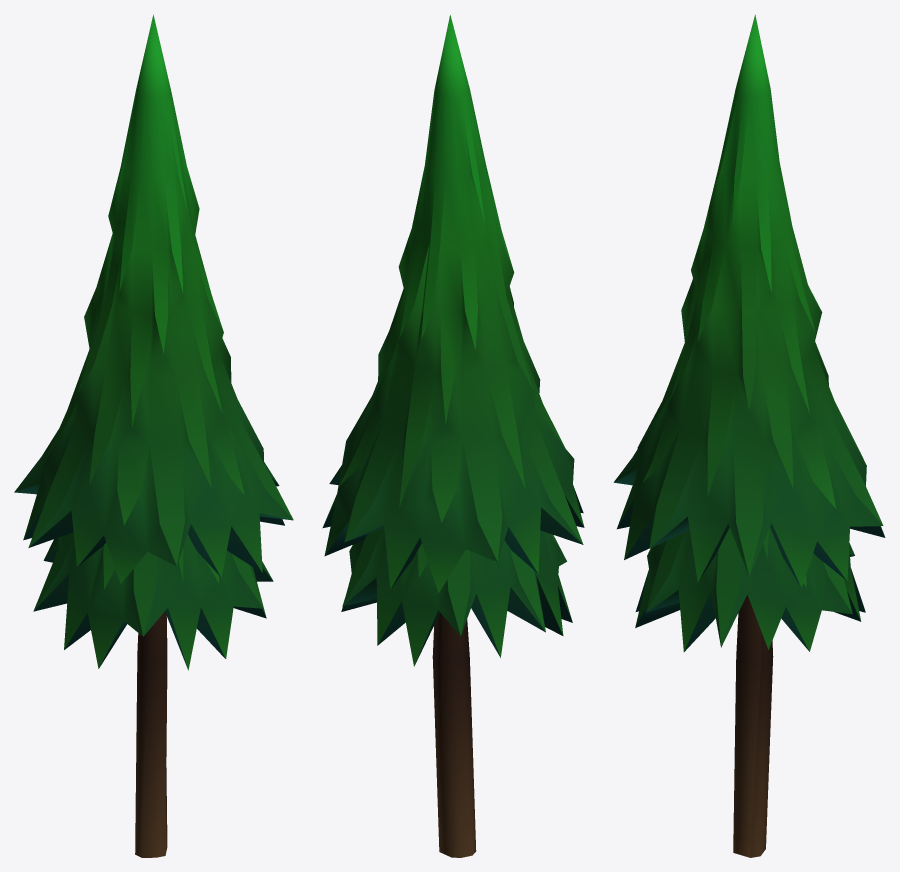
The model's file is Pine_Tree_1A.fbx.
3 views of the same model, side by side, from view 1: azimuth 30°, elevation 25°; view 2: azimuth 150°, elevation 25°; view 3: azimuth 270°, elevation 25° (orthographic).
Visible parts, largest first — view 1: Pine_Tree_1A; view 2: Pine_Tree_1A; view 3: Pine_Tree_1A.
Part boxes in pixels (left/top/right/bottom): Pine_Tree_1A: left=14, top=14, right=293, bottom=857; Pine_Tree_1A: left=322, top=15, right=584, bottom=857; Pine_Tree_1A: left=613, top=14, right=885, bottom=857.
Size of the model in its own units: 553 by 1747 by 514.
